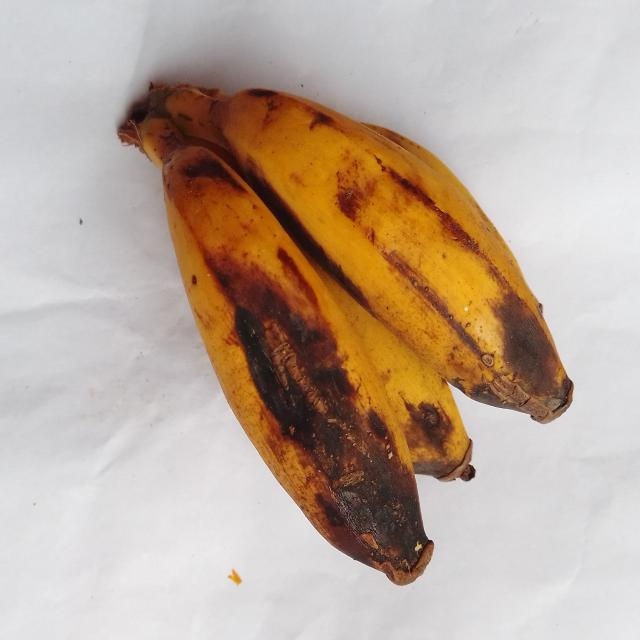banana: (119, 113, 432, 584), (152, 87, 572, 422), (312, 262, 475, 481)
